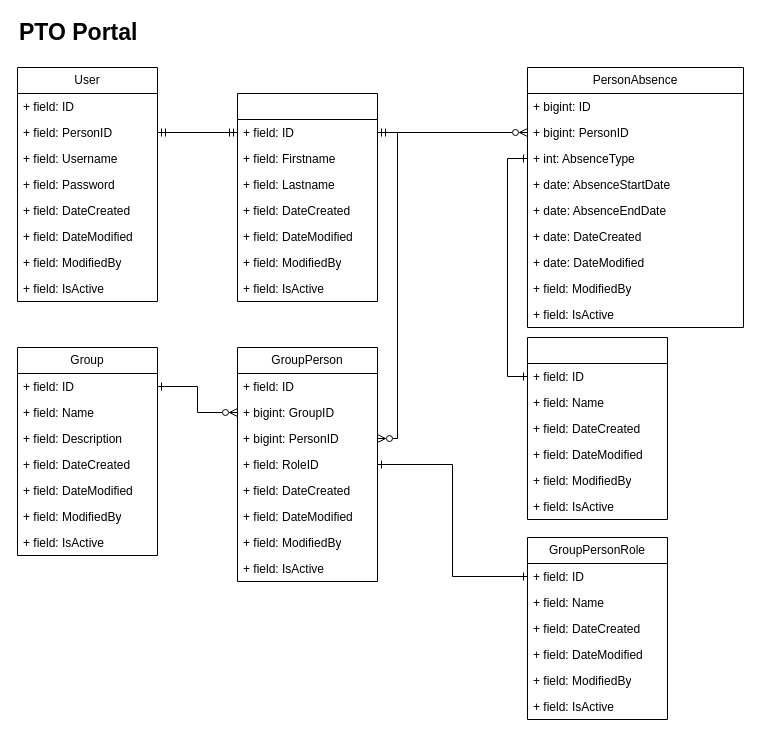
Some shapes in this 761 by 739 pixel diagram are drawn without their labels. Here are the shapes that lost their labels. From the top down, the box of each, then its label:
(236, 92, 378, 302): Person
(526, 336, 668, 520): AbsenceType
